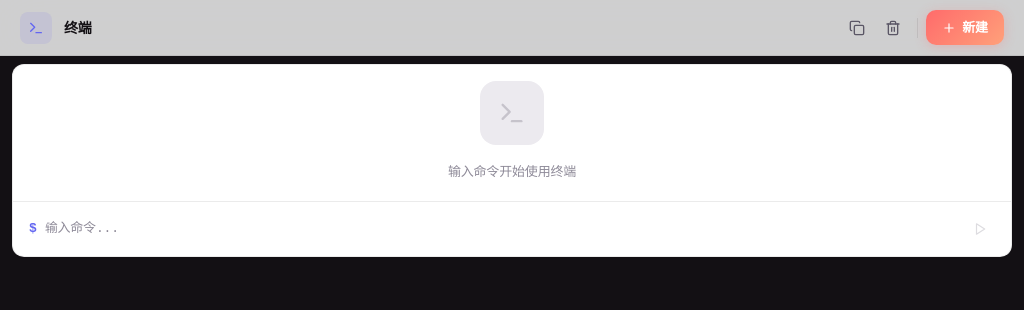
TerminalPage › opens a new terminal tab when '新建' is clicked and shows the tab strip
Click the button "新建" at (965, 28), box [926,10,1004,45]
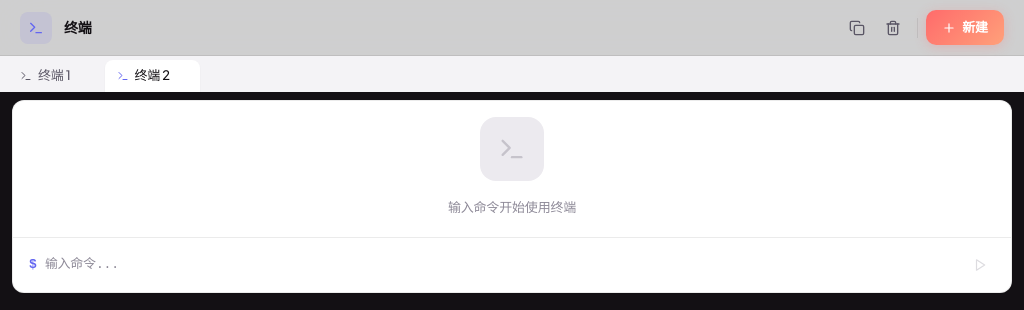
Now the text "终端 1" is shown, box [38,66,70,86]
Now the text "终端 2" is shown, box [134,66,170,86]
